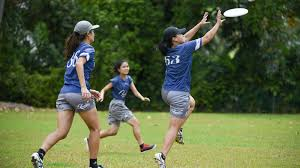disc: (223, 9, 250, 19)
